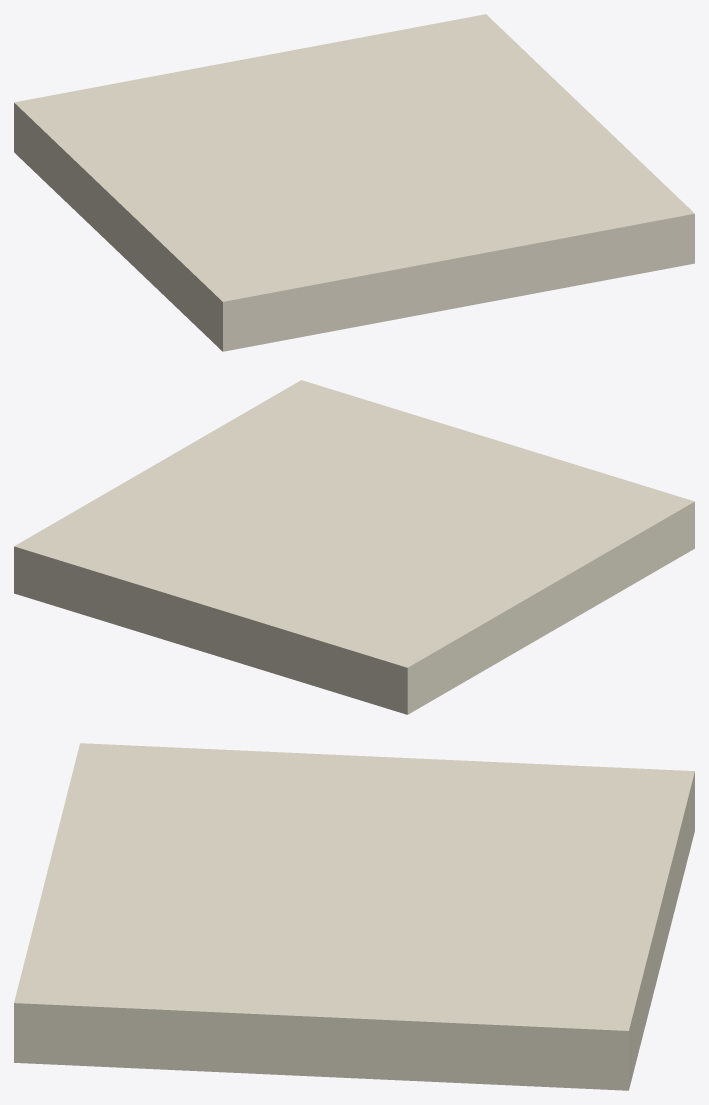
The model's file is camino_16_lev1.glb.
3 renders of one model, top to bottom at view 1: azimuth 30°, elevation 25°; view 2: azimuth 150°, elevation 25°; view 3: azimuth 270°, elevation 25°, orthographic. The views are drawn at different scales.
Visible parts, largest first — view 1: camino_16_lev1; view 2: camino_16_lev1; view 3: camino_16_lev1.
Part boxes in pixels (left/top/right/bottom): camino_16_lev1: left=14, top=14, right=694, bottom=351; camino_16_lev1: left=14, top=380, right=694, bottom=714; camino_16_lev1: left=14, top=743, right=694, bottom=1090.
Bounding box in the file's own units: 1.65 × 0.16 × 1.65.
